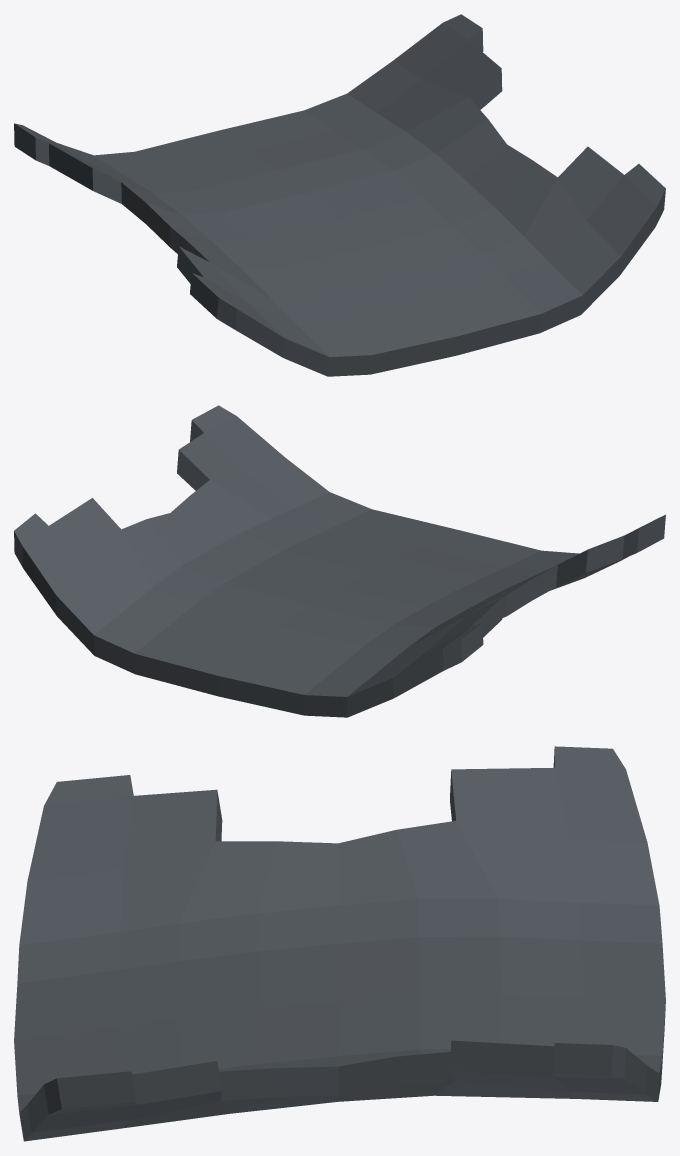
The model's file is Personal_Vehicle_01_Bottom_Plate_Yellow.fbx.
3 views of the same model, one above another, from view 1: azimuth 30°, elevation 25°; view 2: azimuth 150°, elevation 25°; view 3: azimuth 270°, elevation 25° (orthographic). The views are drawn at different scales.
Visible parts, largest first — view 1: Personal_Vehicle_01_Bottom_Plate_Yellow; view 2: Personal_Vehicle_01_Bottom_Plate_Yellow; view 3: Personal_Vehicle_01_Bottom_Plate_Yellow.
Part boxes in pixels (x1,y1,x2,y2): Personal_Vehicle_01_Bottom_Plate_Yellow: [14, 14, 665, 376]; Personal_Vehicle_01_Bottom_Plate_Yellow: [14, 405, 665, 717]; Personal_Vehicle_01_Bottom_Plate_Yellow: [14, 746, 665, 1141].
Size of the model in its own units: 108 by 29.53 by 100.
1 material, 1 textured.
